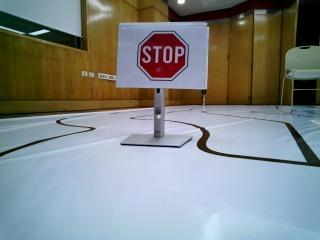stop: (123, 26, 201, 84)
